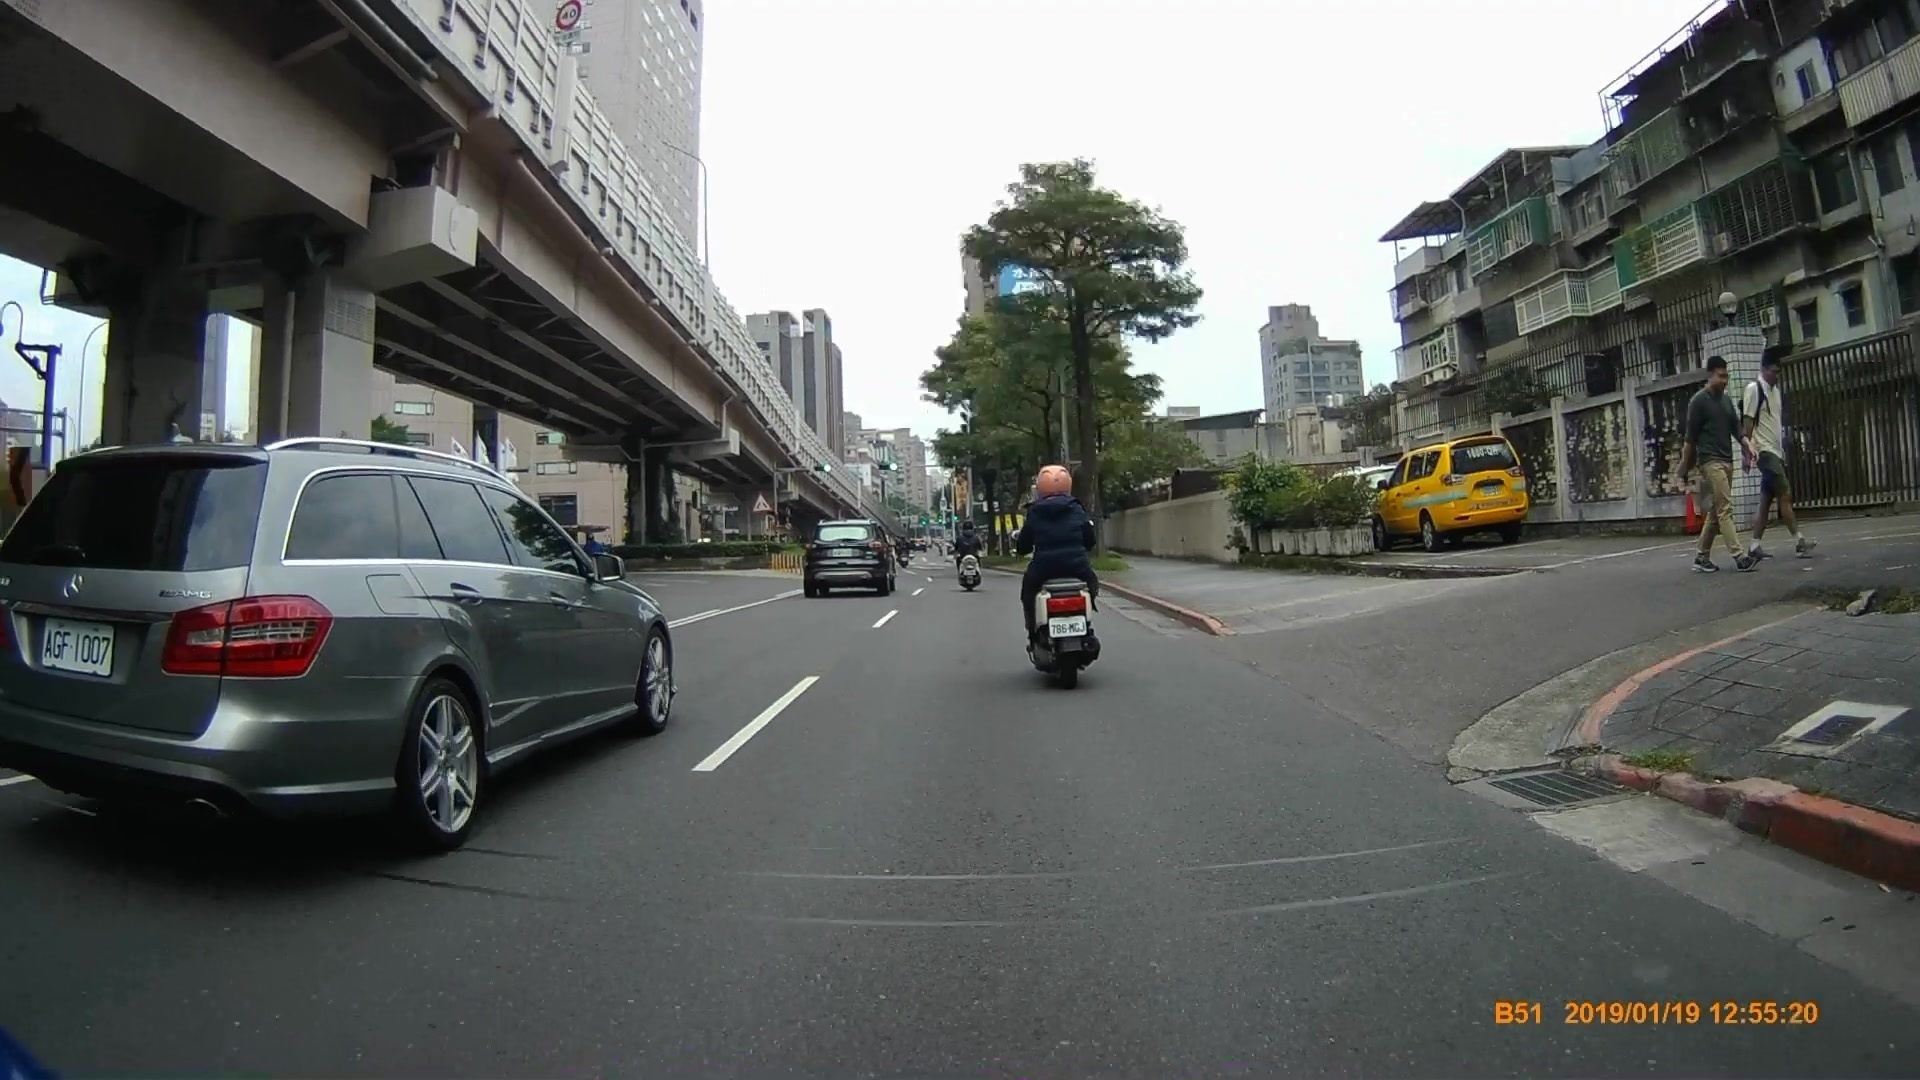License_plate: (36, 611, 115, 679), (1045, 617, 1090, 637)
